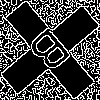B: (25, 25, 80, 82)
